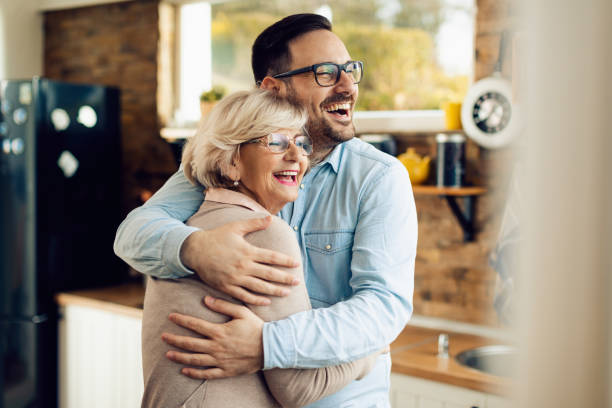without mask: (283, 16, 365, 140), (236, 114, 312, 212)
